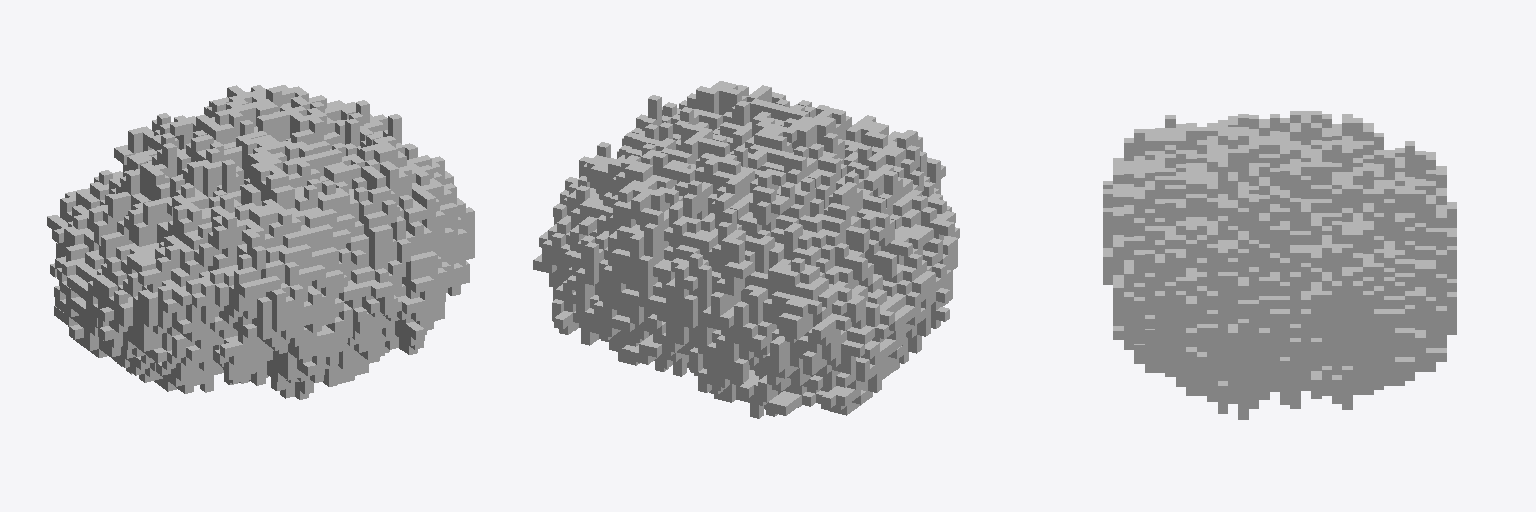
The model's file is leaf3.obj.
3 views of the same model, side by side, from view 1: azimuth 30°, elevation 25°; view 2: azimuth 150°, elevation 25°; view 3: azimuth 270°, elevation 25° (orthographic).
Visible parts, largest first — view 1: object 1; view 2: object 1; view 3: object 1.
Boxes of the visible parts, x1=… form: object 1: x1=47, y1=85, x2=474, y2=399; object 1: x1=533, y1=81, x2=959, y2=418; object 1: x1=1103, y1=111, x2=1456, y2=419.
Size of the model in its own units: 3.7 by 2.5 by 3.4.